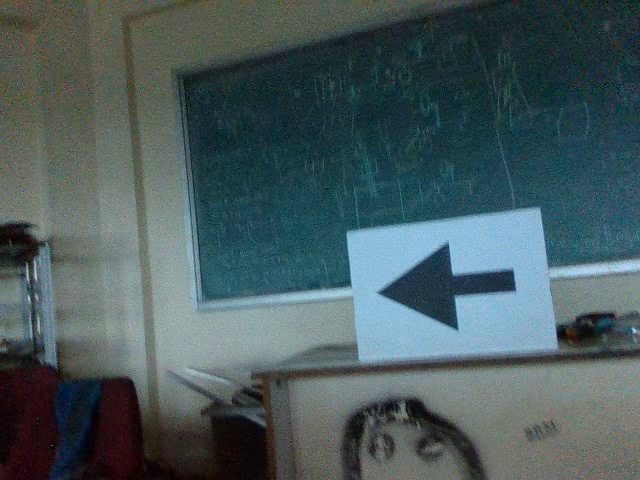Left: (370, 238, 520, 336)
